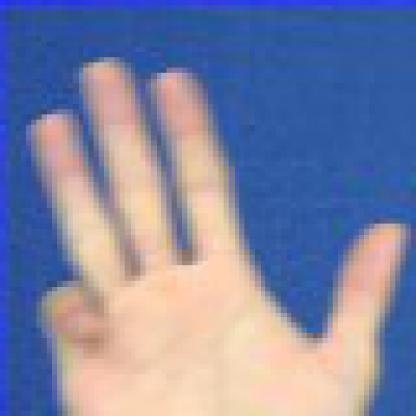nine: (10, 15, 411, 410)
